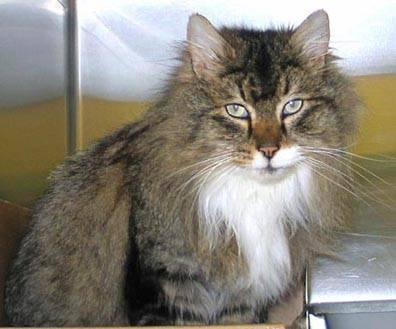cat: (6, 10, 381, 325)
